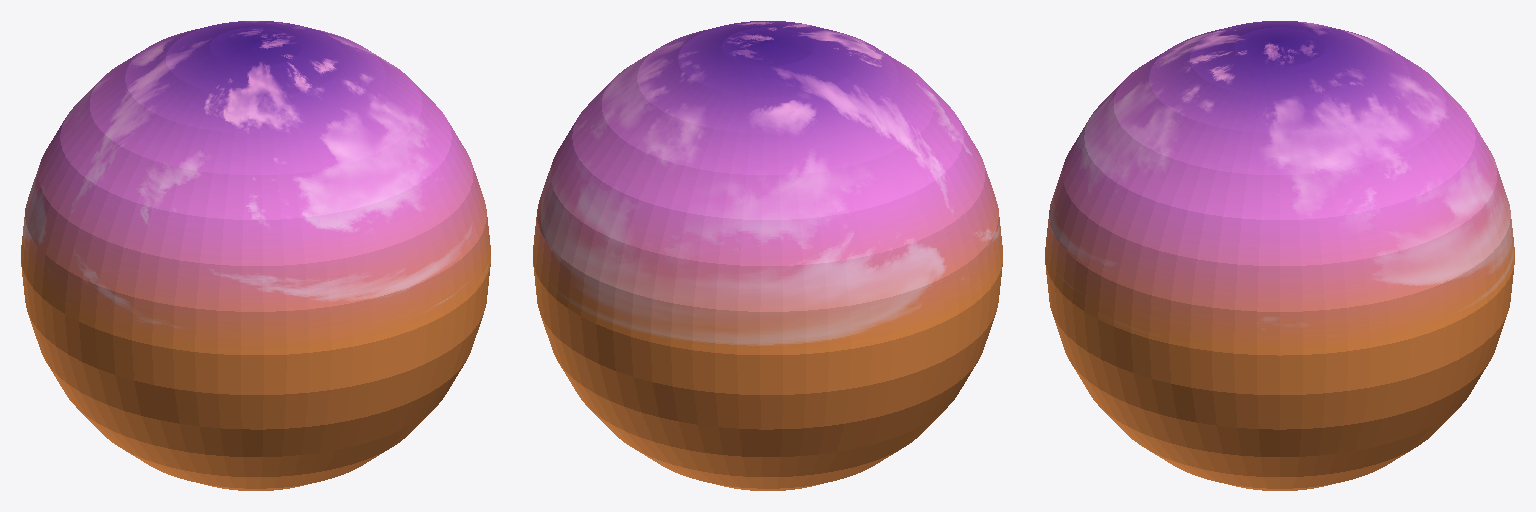
3 renders of one model, left to right at view 1: azimuth 30°, elevation 25°; view 2: azimuth 150°, elevation 25°; view 3: azimuth 270°, elevation 25°, orthographic.
Parts seen in each view (by area): view 1: Sphere_Sphere.001; view 2: Sphere_Sphere.001; view 3: Sphere_Sphere.001.
Part boxes in pixels (bbox=[...]): Sphere_Sphere.001: bbox=[21, 21, 490, 490]; Sphere_Sphere.001: bbox=[533, 21, 1002, 490]; Sphere_Sphere.001: bbox=[1045, 21, 1514, 490].
Bounding box in the file's own units: 2 × 2 × 2.
1 materials, 1 textured.